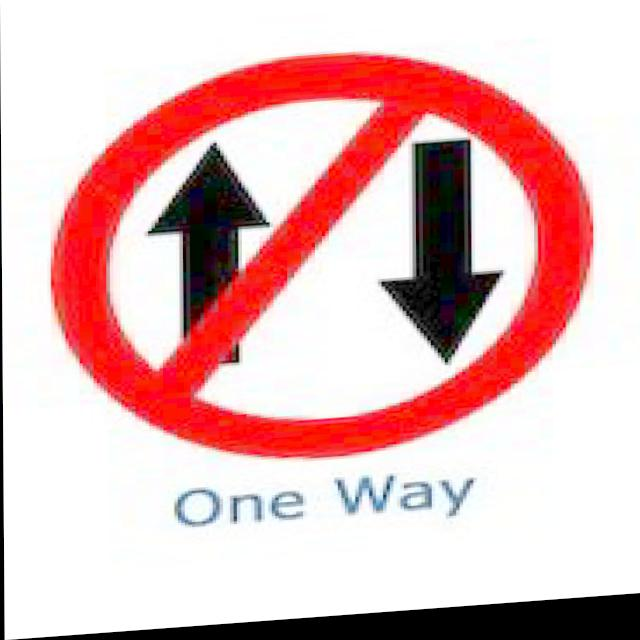ONE_WAY_TRAFFIC: (45, 42, 607, 484)
